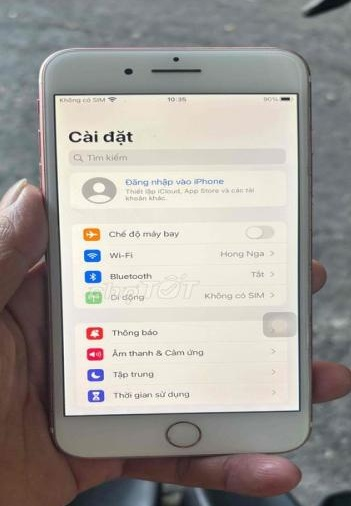scratch: (162, 426, 198, 446)
